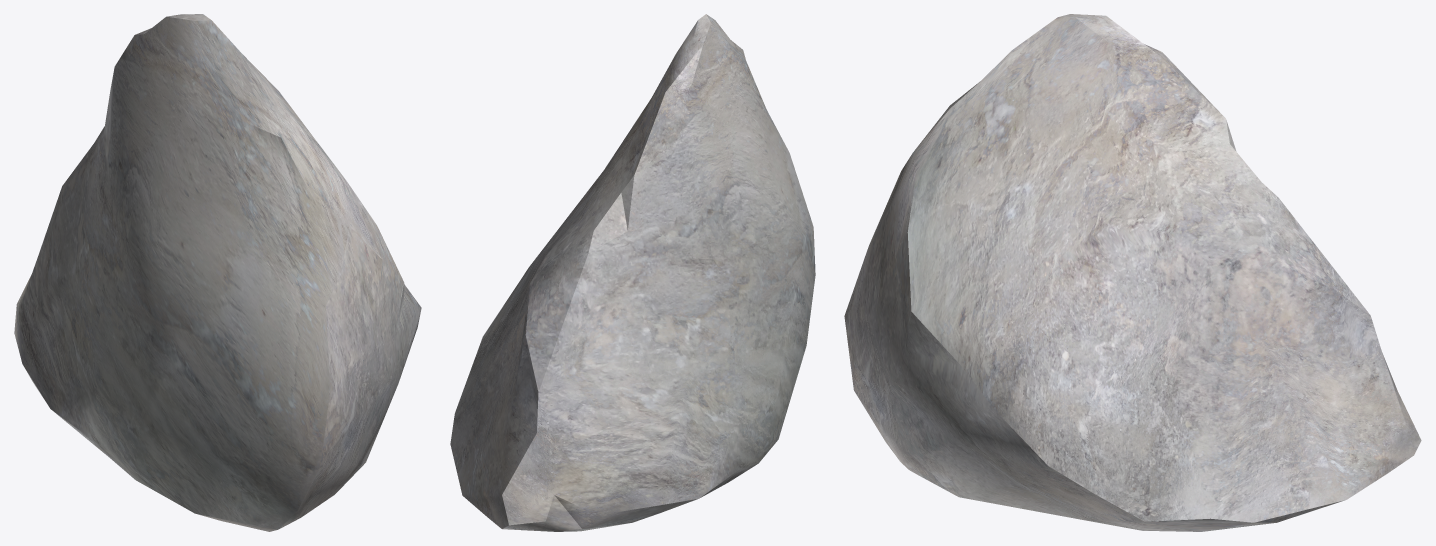
The model's file is rock_00E_lp2_2k.fbx.
The picture shows the model from 3 angles, left to right: view 1: azimuth 30°, elevation 25°; view 2: azimuth 150°, elevation 25°; view 3: azimuth 270°, elevation 25°; orthographic projection. The views are drawn at different scales.
Parts seen in each view (by area): view 1: rock_00E_lp2_2k; view 2: rock_00E_lp2_2k; view 3: rock_00E_lp2_2k.
Boxes of the visible parts, <box> form: rock_00E_lp2_2k: <box>14,14,421,531</box>; rock_00E_lp2_2k: <box>450,14,815,531</box>; rock_00E_lp2_2k: <box>844,14,1421,531</box>.
Size of the model in its own units: 154 by 237 by 268.
